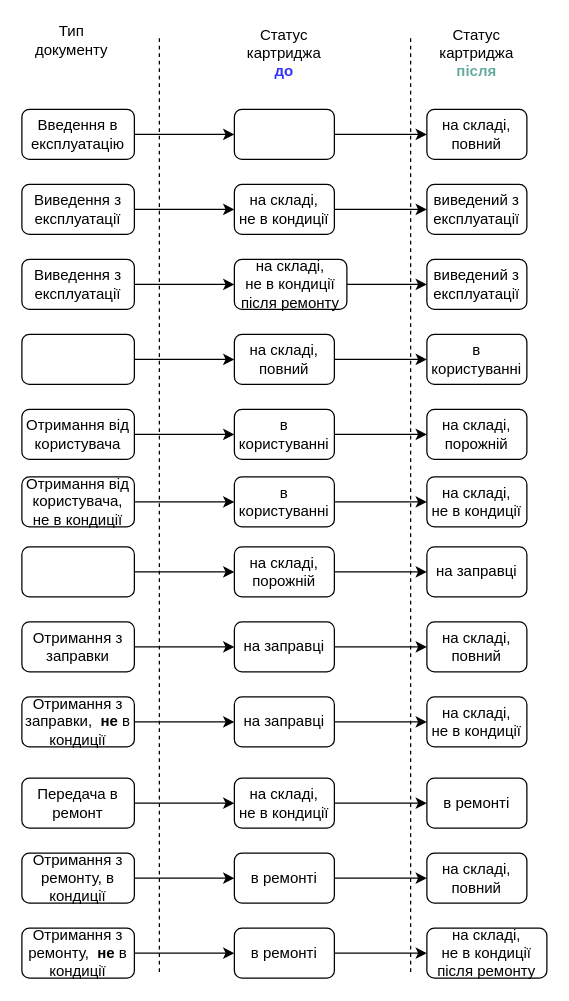
Image size: 569x1001. Some labels were removed from this diagram. The shapes that lost their labels are listed below. From the top down, each one's centre as x and y in pixels, then its label:
At [283,133]: "невизначено".
At [77,358]: "Переміщення на користувача".
At [77,571]: "Передача на заправку".
